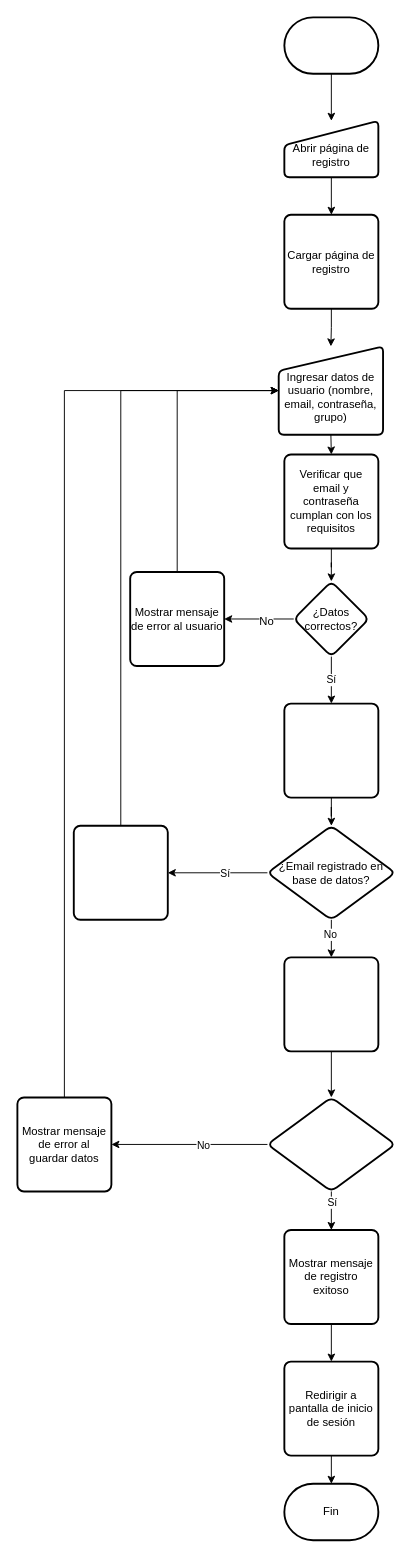
Image size: 412x1557. Some labels were removed from this diagram. Each missing label, with the box of its shape:
Almacenar datos en base de datos: (283, 956, 379, 1052)
Inicio: (283, 16, 379, 74)
Mostrar mensaje de error, usuario ya registrado: (72, 824, 168, 920)
Verificar email en base de datos: (283, 702, 379, 798)
¿Datos guardados correctamente?: (266, 1096, 396, 1192)
